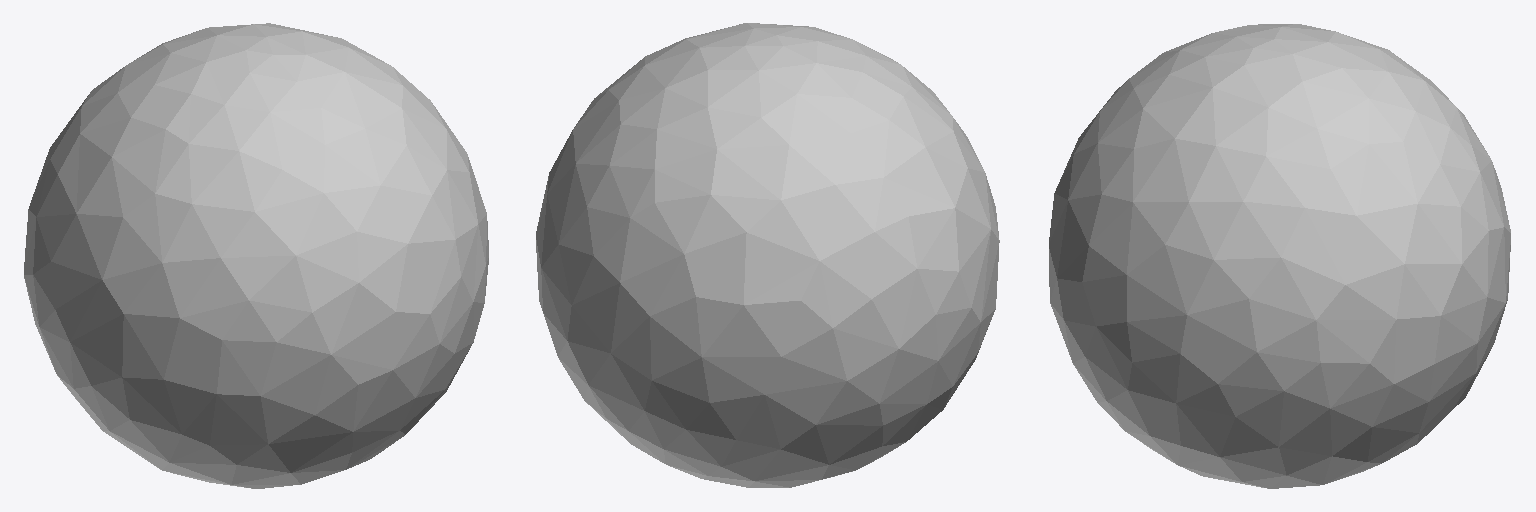
The model's file is Sun.obj.
The picture shows the model from 3 angles: view 1: azimuth 30°, elevation 25°; view 2: azimuth 150°, elevation 25°; view 3: azimuth 270°, elevation 25°; orthographic projection.
Parts seen in each view (by area): view 1: Atmosphere_Sphere.003; view 2: Atmosphere_Sphere.003; view 3: Atmosphere_Sphere.003.
Boxes of the visible parts, box(x1,y1,x2,y2) form: Atmosphere_Sphere.003: box(24, 23, 488, 488); Atmosphere_Sphere.003: box(536, 23, 999, 487); Atmosphere_Sphere.003: box(1049, 24, 1510, 488).
Size of the model in its own units: 3.91 by 3.9 by 3.88.